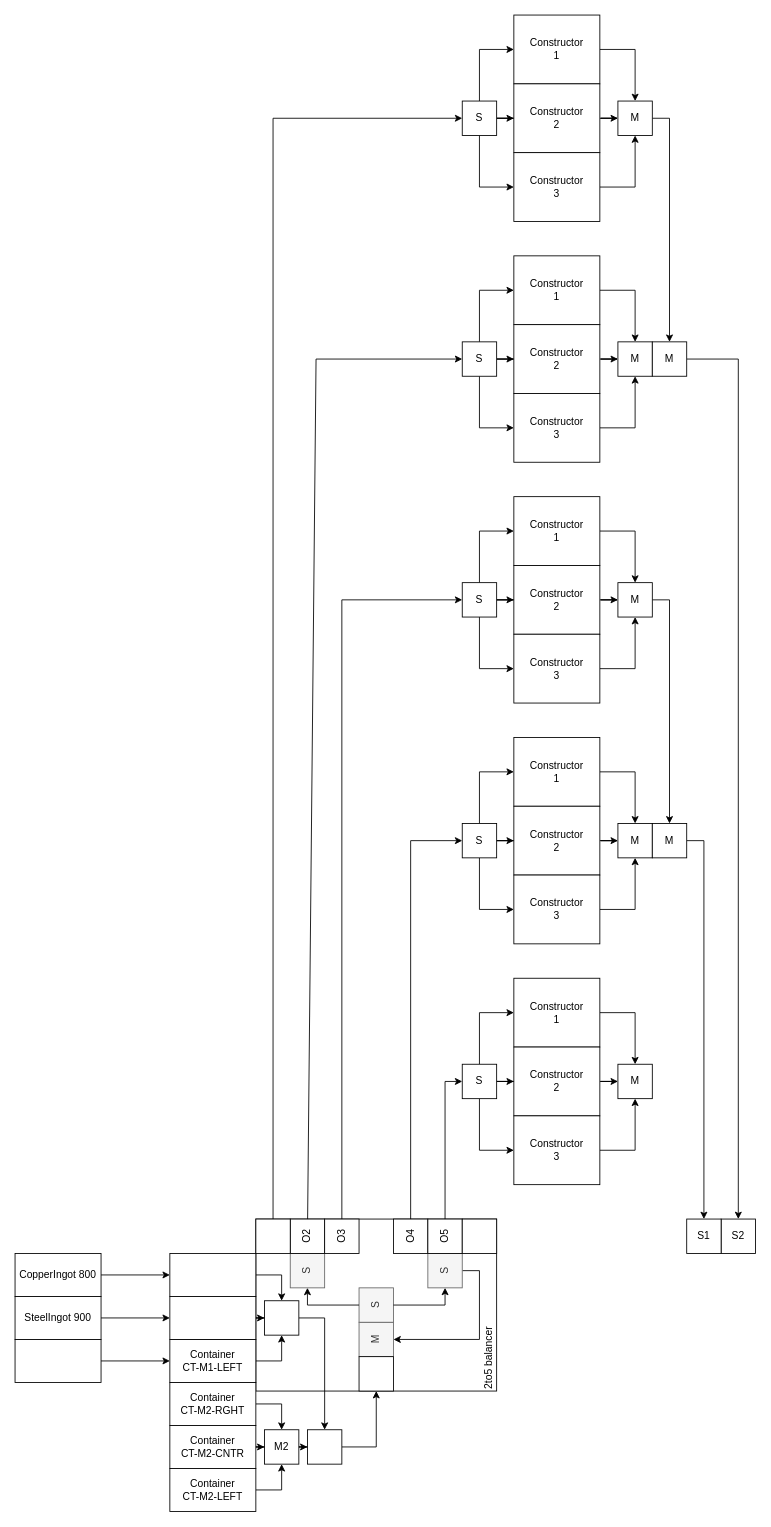
This 771x1527 diagram has some shape labels left out. Each missing label, with the centre of its shape:
"Container CT-M1-CNTR" belongs at point (212, 1317).
"Container CT-M1-RGHT" belongs at point (212, 1274).
"I1" belongs at point (375, 1373).
"IronIngot 2250" belongs at point (57, 1360).
"M1" belongs at point (281, 1317).
"M3" belongs at point (324, 1446).
"O1" belongs at point (272, 1235).
"O6" belongs at point (479, 1235).
